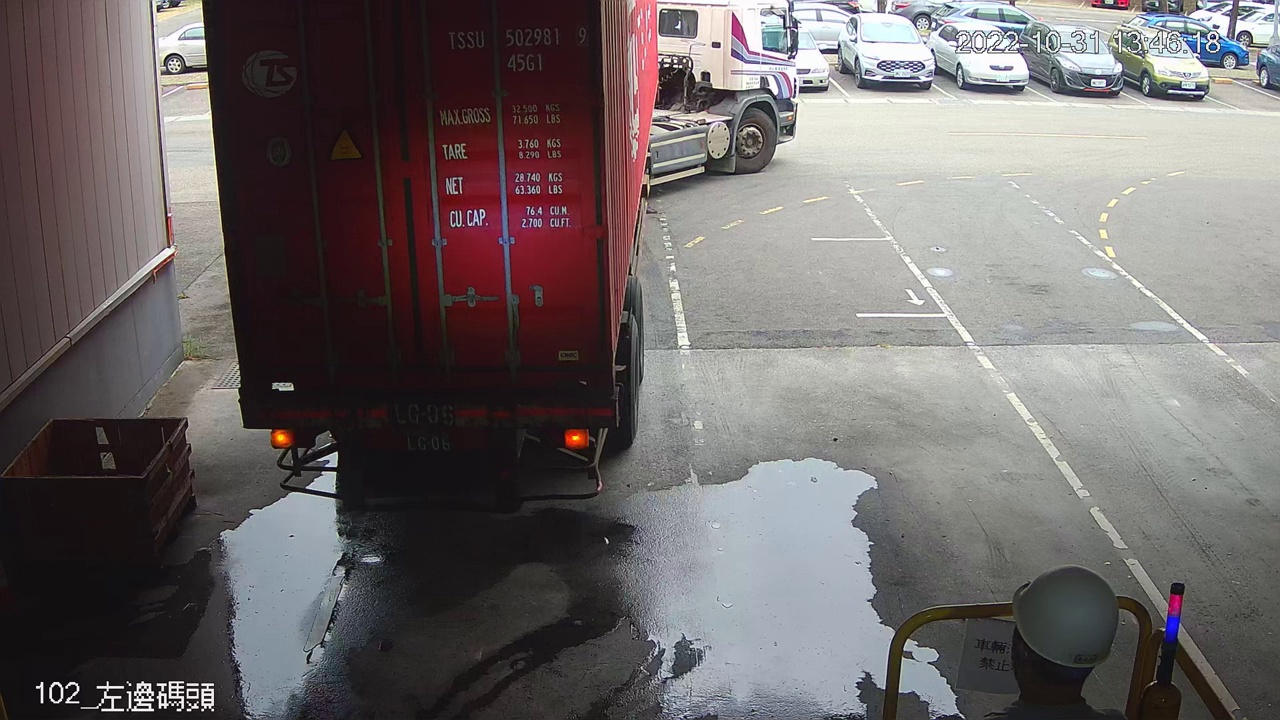container: (437, 21, 595, 80)
